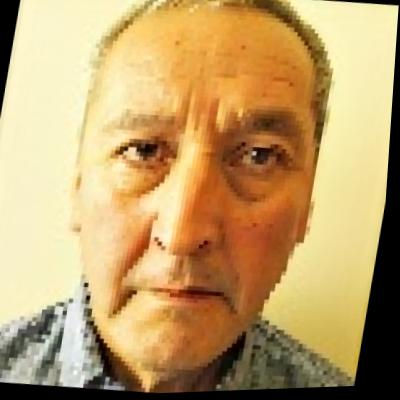sad: (55, 6, 342, 385)
